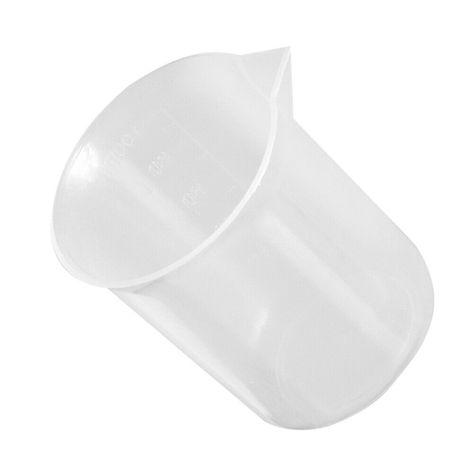PP: (51, 45, 433, 431)
